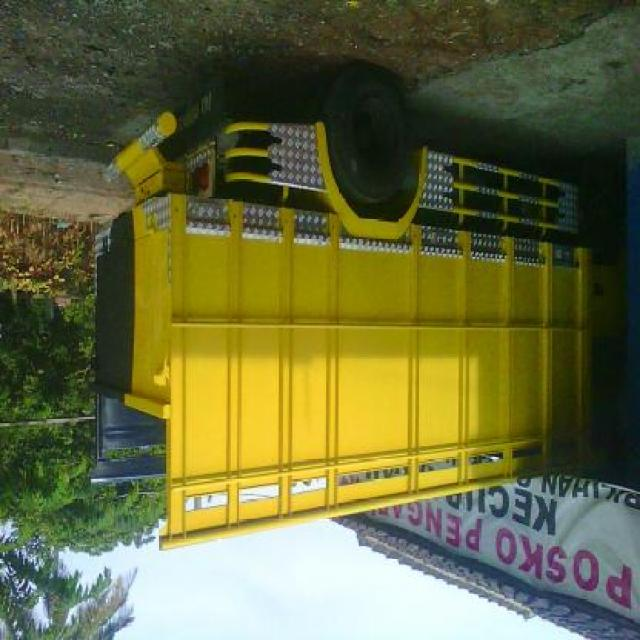truck: (93, 67, 639, 552)
